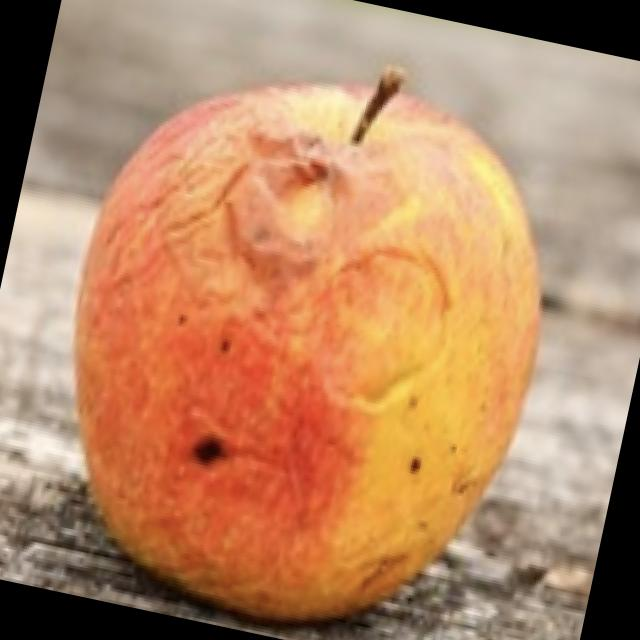rotten_apple: (15, 14, 588, 640)
